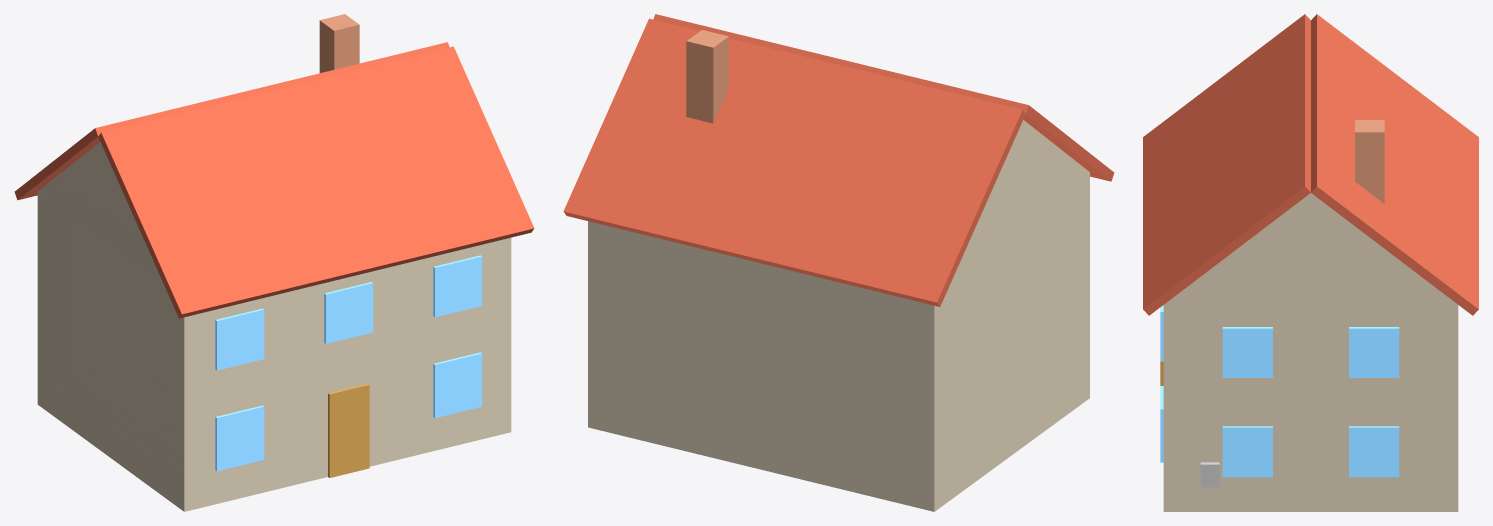
File: Load-Residential.glb
The picture shows the model from 3 angles, left to right: view 1: azimuth 30°, elevation 25°; view 2: azimuth 150°, elevation 25°; view 3: azimuth 270°, elevation 25°; orthographic projection. The views are drawn at different scales.
Visible parts, largest first — view 1: walls, roof_front, window (×5), gable, roof_back, door, chimney; view 2: walls, roof_back, gable, roof_front, chimney; view 3: walls, roof_front, roof_back, gable, window (×4), chimney, meter_box.
Part boxes in pixels (x1,y1,x2,y2): walls: [37, 192, 511, 511]; roof_front: [98, 46, 534, 318]; window (×5): [215, 255, 482, 471]; gable: [38, 142, 162, 282]; roof_back: [14, 42, 449, 200]; door: [328, 383, 369, 477]; chimney: [319, 14, 359, 72]; walls: [588, 172, 1089, 511]; roof_back: [563, 18, 1025, 306]; gable: [957, 120, 1089, 269]; roof_front: [653, 14, 1114, 181]; chimney: [686, 30, 728, 123]; walls: [1163, 298, 1458, 511]; roof_front: [1143, 14, 1310, 315]; roof_back: [1311, 14, 1478, 315]; gable: [1172, 193, 1449, 298]; window (×4): [1222, 327, 1399, 477]; chimney: [1355, 120, 1384, 203]; meter_box: [1200, 462, 1219, 487].
Size of the model in its own units: 9.7 by 9.24 by 7.98.
